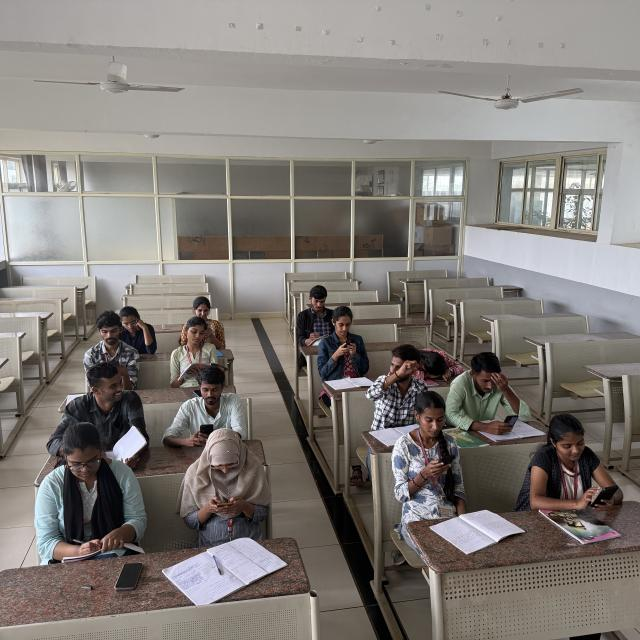Reading: (162, 318, 242, 390)
Sleeping: (417, 329, 463, 396)
Using Phone: (501, 395, 640, 513), (385, 382, 483, 517), (185, 430, 278, 534), (453, 356, 533, 446), (42, 312, 146, 380), (169, 361, 244, 442), (313, 301, 381, 388)
Writing: (36, 426, 150, 555), (300, 284, 340, 360)
